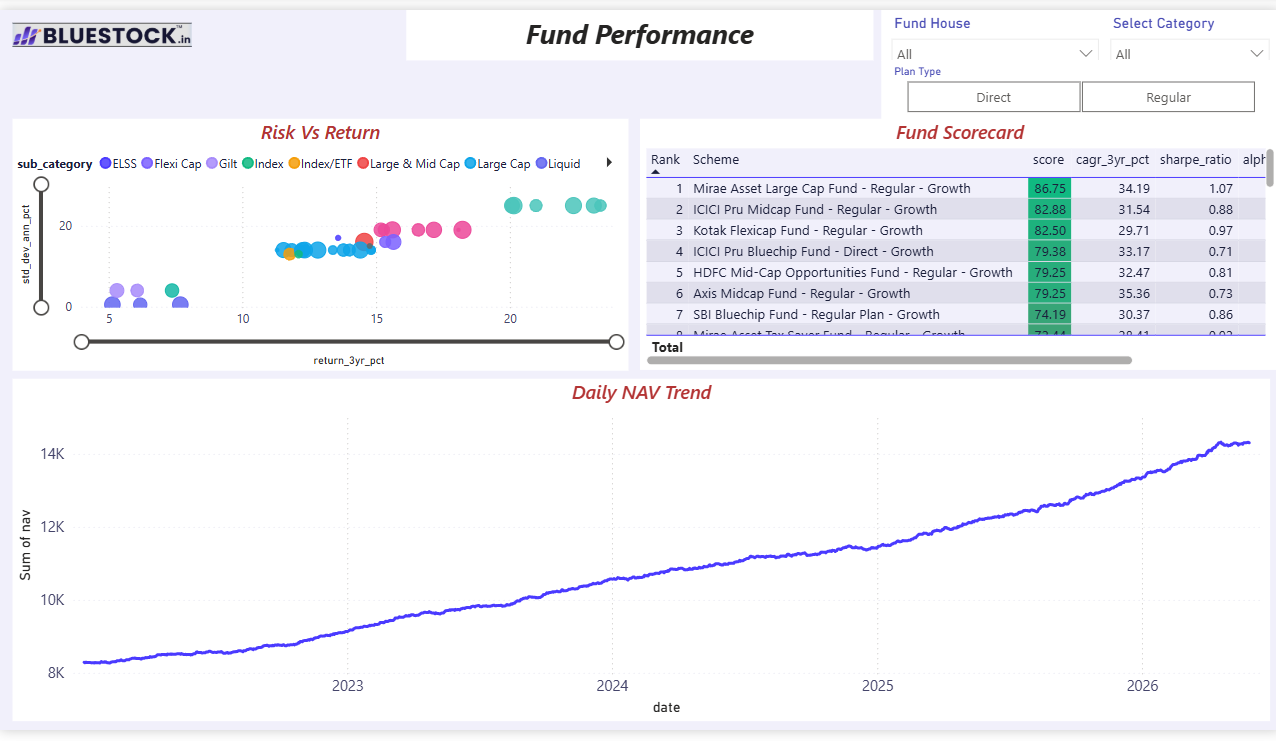

This screenshot's page, from the dashboard's own definition file:
{"tool":"powerbi","page":{"name":"Page 2","canvas":[1280,720],"ordinal":1},"visuals":[{"type":"image","box":[12.5,0,179.5,50],"z":0},{"type":"textbox","box":[405.7,0,467,50],"z":1},{"type":"slicer","fields":{"Values":["dim_fund.fund_house"]},"box":[881.8,0,227.3,50],"z":2},{"type":"slicer","fields":{"Values":["dim_fund.sub_category"]},"box":[1100,0,179.5,50],"z":3},{"type":"slicer","fields":{"Values":["dim_fund.plan"]},"box":[881.8,50,397.7,59.1],"z":4},{"type":"scatterChart","title":"Risk Vs Return ","fields":{"X":["fact_performance.return_3yr_pct"],"Y":["fact_performance.std_dev_ann_pct"],"Series":["dim_fund.sub_category"],"Size":["Sum(fact_performance.aum_crore)"]},"box":[12.5,109.1,615.9,251.1],"z":5},{"type":"tableEx","title":"Fund Scorecard","fields":{"Values":["fund_scorecard.overall_rank","fund_scorecard.scheme_name","fund_scorecard.score","fund_scorecard.cagr_3yr_pct","fund_scorecard.sharpe_ratio","fund_scorecard.alpha_ann","fund_scorecard.max_drawdown_pct"]},"box":[639.8,109.1,639.8,251.1],"z":6},{"type":"lineChart","title":"Daily NAV Trend","fields":{"Y":["Sum(fact_nav.nav)"],"Category":["fact_nav.date"]},"box":[12.5,369.3,1258,342],"z":7}]}

Visuals, with their boxes on the page's 1280x720 design canvas (x1, y1, x2, y2). These are canvas units, not pixel positions in the 1276x741 screenshot, which may show the page scaled, cropped or inside an application window:
image: crop(12, 0, 192, 50)
textbox: crop(406, 0, 873, 50)
slicer - dim_fund.fund_house: crop(882, 0, 1109, 50)
slicer - dim_fund.sub_category: crop(1100, 0, 1280, 50)
slicer - dim_fund.plan: crop(882, 50, 1280, 109)
"Risk Vs Return " scatterChart: crop(12, 109, 628, 360)
"Fund Scorecard" tableEx: crop(640, 109, 1280, 360)
"Daily NAV Trend" lineChart: crop(12, 369, 1270, 711)
